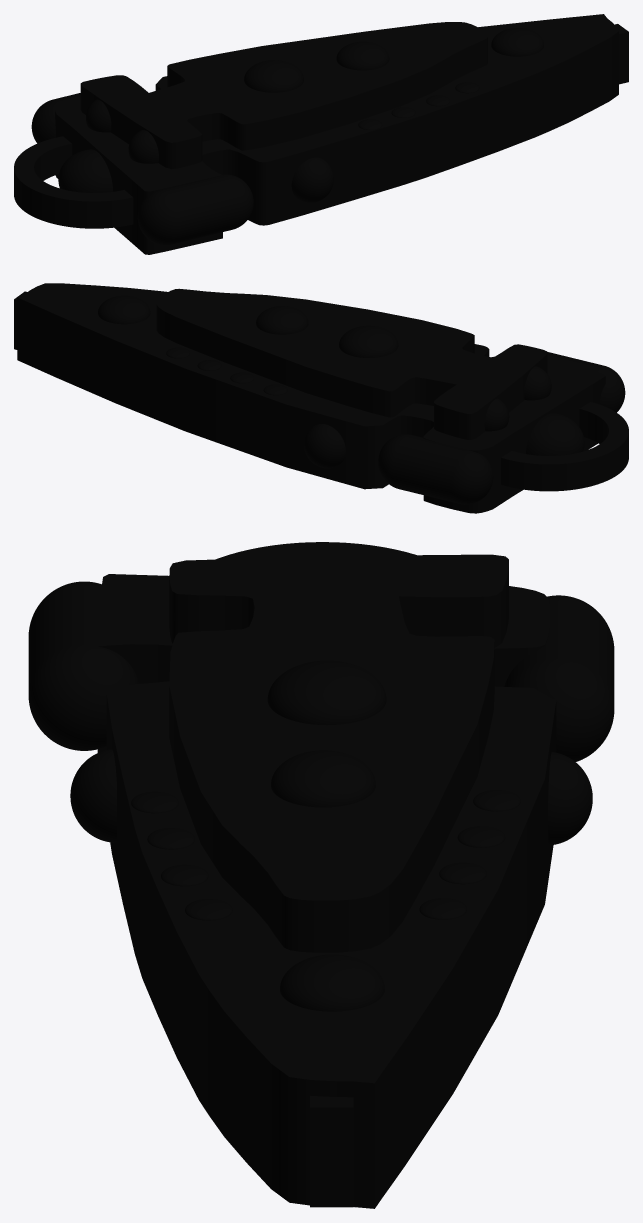
Rendered from base1_blue.fbx.
3 renders of one model, top to bottom at view 1: azimuth 30°, elevation 25°; view 2: azimuth 150°, elevation 25°; view 3: azimuth 270°, elevation 25°, orthographic. The views are drawn at different scales.
Visible parts, largest first — view 1: root (×13); view 2: root (×12); view 3: root (×11).
Boxes of the visible parts, <box> form: root (×13): <box>14,14,628,254</box>; root (×12): <box>17,283,628,513</box>; root (×11): <box>28,542,614,1208</box>.
Size of the model in its own units: 6.93 by 1.15 by 2.95.
23 materials, 22 textured.
